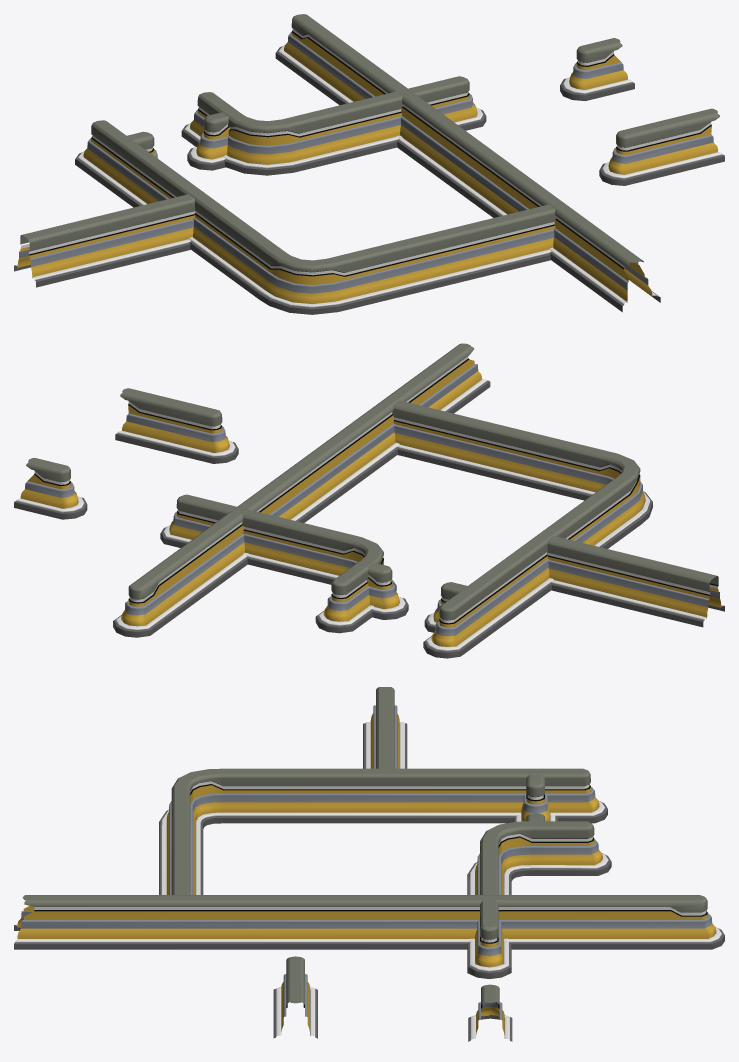
File: Level33_Small_walls.fbx
3 renders of one model, top to bottom at view 1: azimuth 30°, elevation 25°; view 2: azimuth 150°, elevation 25°; view 3: azimuth 270°, elevation 25°, orthographic. The views are drawn at different scales.
Visible parts, largest first — view 1: Small_wall_L52, Small_wallv1_20, Small_wall_L53, Small_wall_L47, Small_wallv1_23, Small_wallv1_22, Small_wallv1_24; view 2: Small_wall_L52, Small_wallv1_20, Small_wall_L53, Small_wall_L47, Small_wallv1_23, Small_wallv1_22, Small_wallv1_24, Small_wallv1_25; view 3: Small_wallv1_20, Small_wall_L52, Small_wall_L53, Small_wall_L47, Small_wallv1_23, Small_wallv1_22, Small_wallv1_25.
Part boxes in pixels (x1,y1,x2,y2): Small_wall_L52: (75,120,556,314); Small_wallv1_20: (275,14,660,312); Small_wall_L53: (181,76,486,175); Small_wall_L47: (14,194,195,287); Small_wallv1_23: (599,108,724,185); Small_wallv1_22: (560,38,634,101); Small_wallv1_24: (187,112,229,170); Small_wall_L52: (392,400,652,658); Small_wallv1_20: (113,343,490,637); Small_wall_L53: (160,494,396,633); Small_wall_L47: (547,536,724,627); Small_wallv1_23: (115,388,238,463); Small_wallv1_22: (14,458,87,519); Small_wallv1_24: (367,562,408,619); Small_wallv1_25: (424,582,467,632); Small_wallv1_20: (14,895,724,949); Small_wall_L52: (159,768,607,894); Small_wall_L53: (467,821,611,978); Small_wall_L47: (363,687,407,768); Small_wallv1_23: (273,956,317,1038); Small_wallv1_22: (468,984,512,1041); Small_wallv1_25: (513,774,557,821).
Bounding box in the file's own units: 587 × 37.94 × 552.
